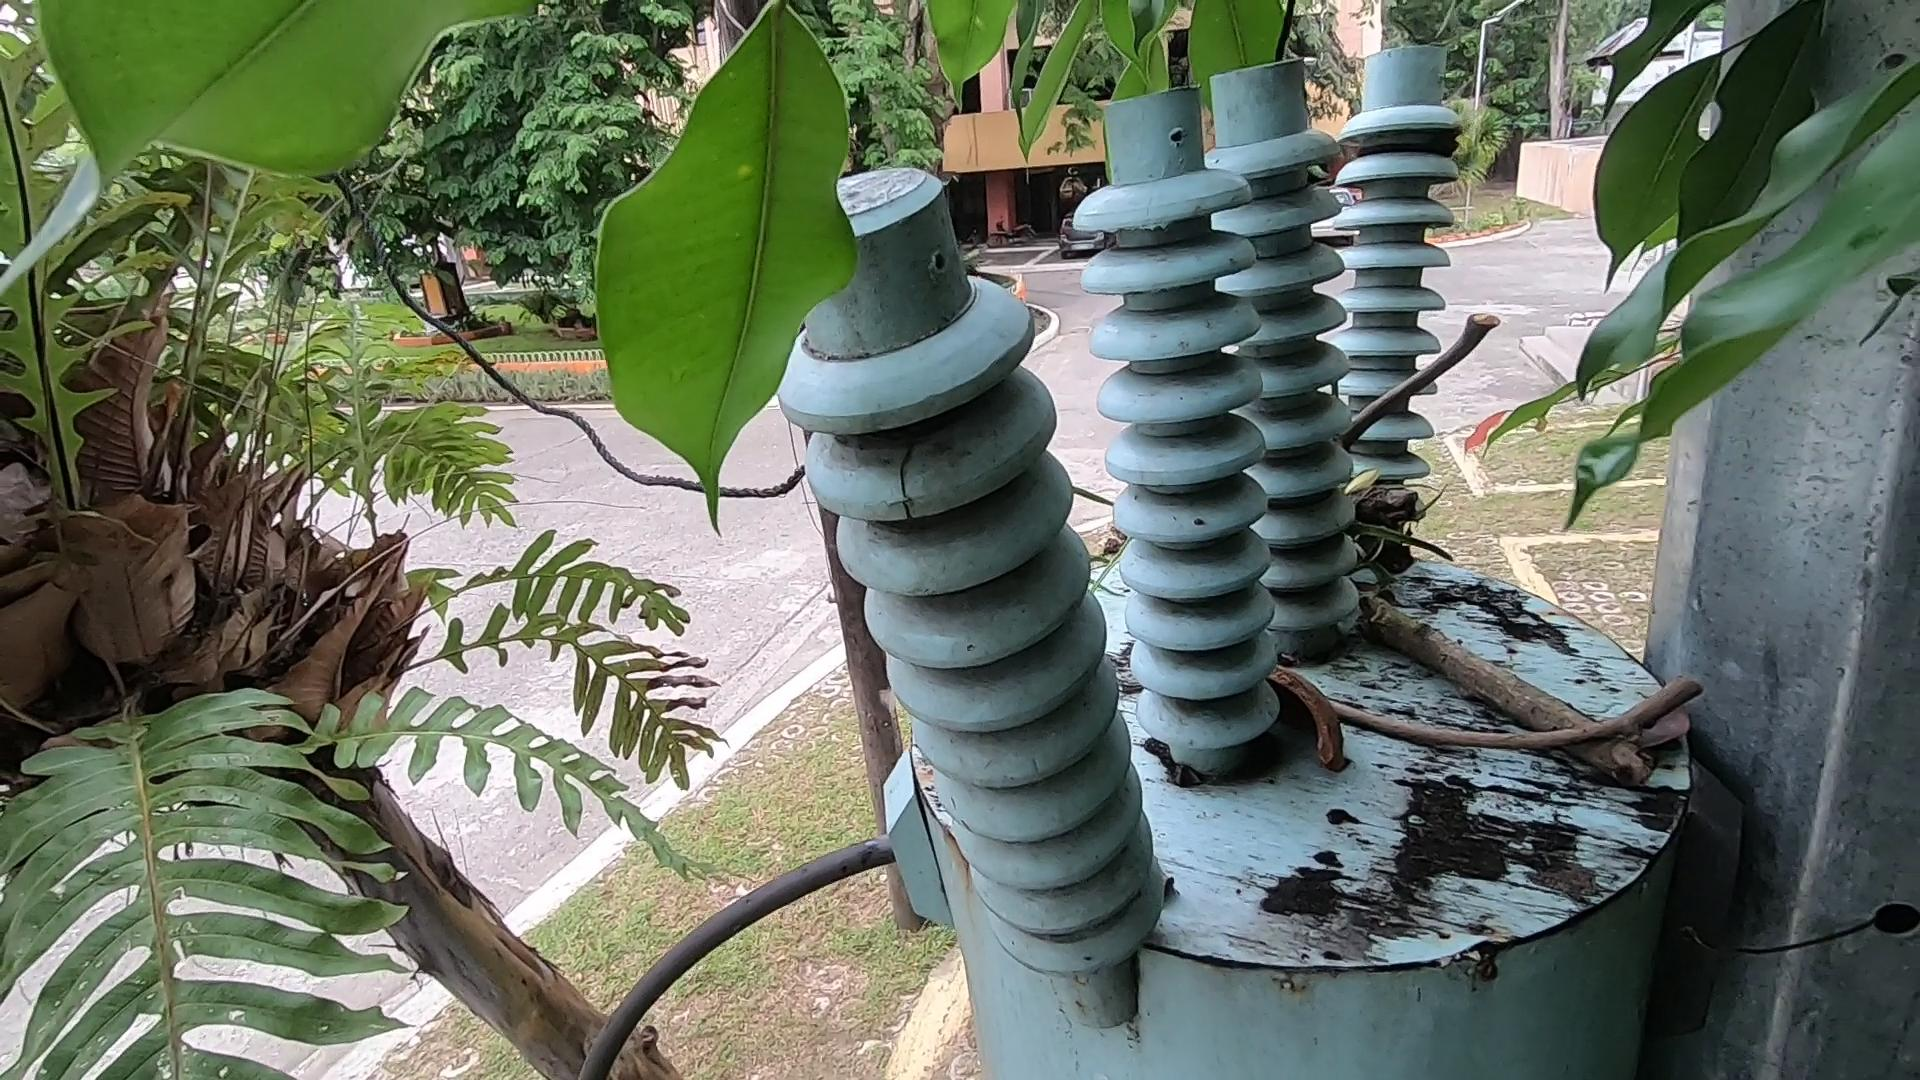branch with leaves: (1287, 462, 1737, 848)
leaf: (1614, 669, 1697, 789)
mahogany fruit: (1220, 593, 1329, 786)
tree branch: (1303, 276, 1597, 446), (1303, 711, 1739, 799)
